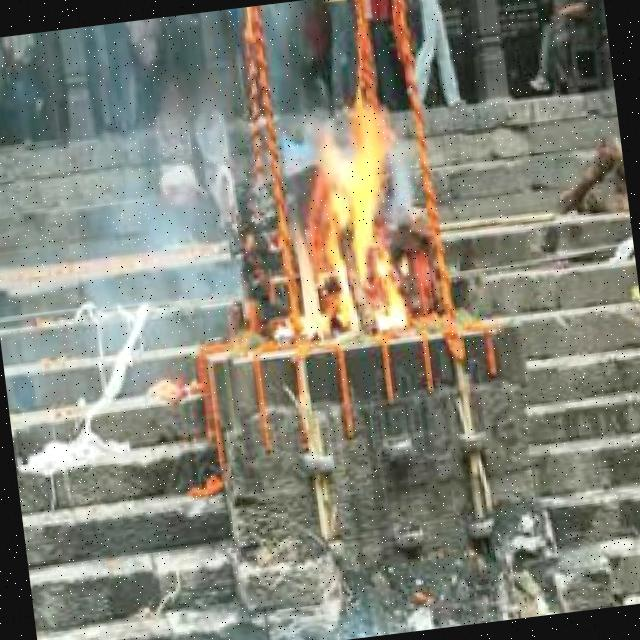fire: (254, 97, 418, 351)
